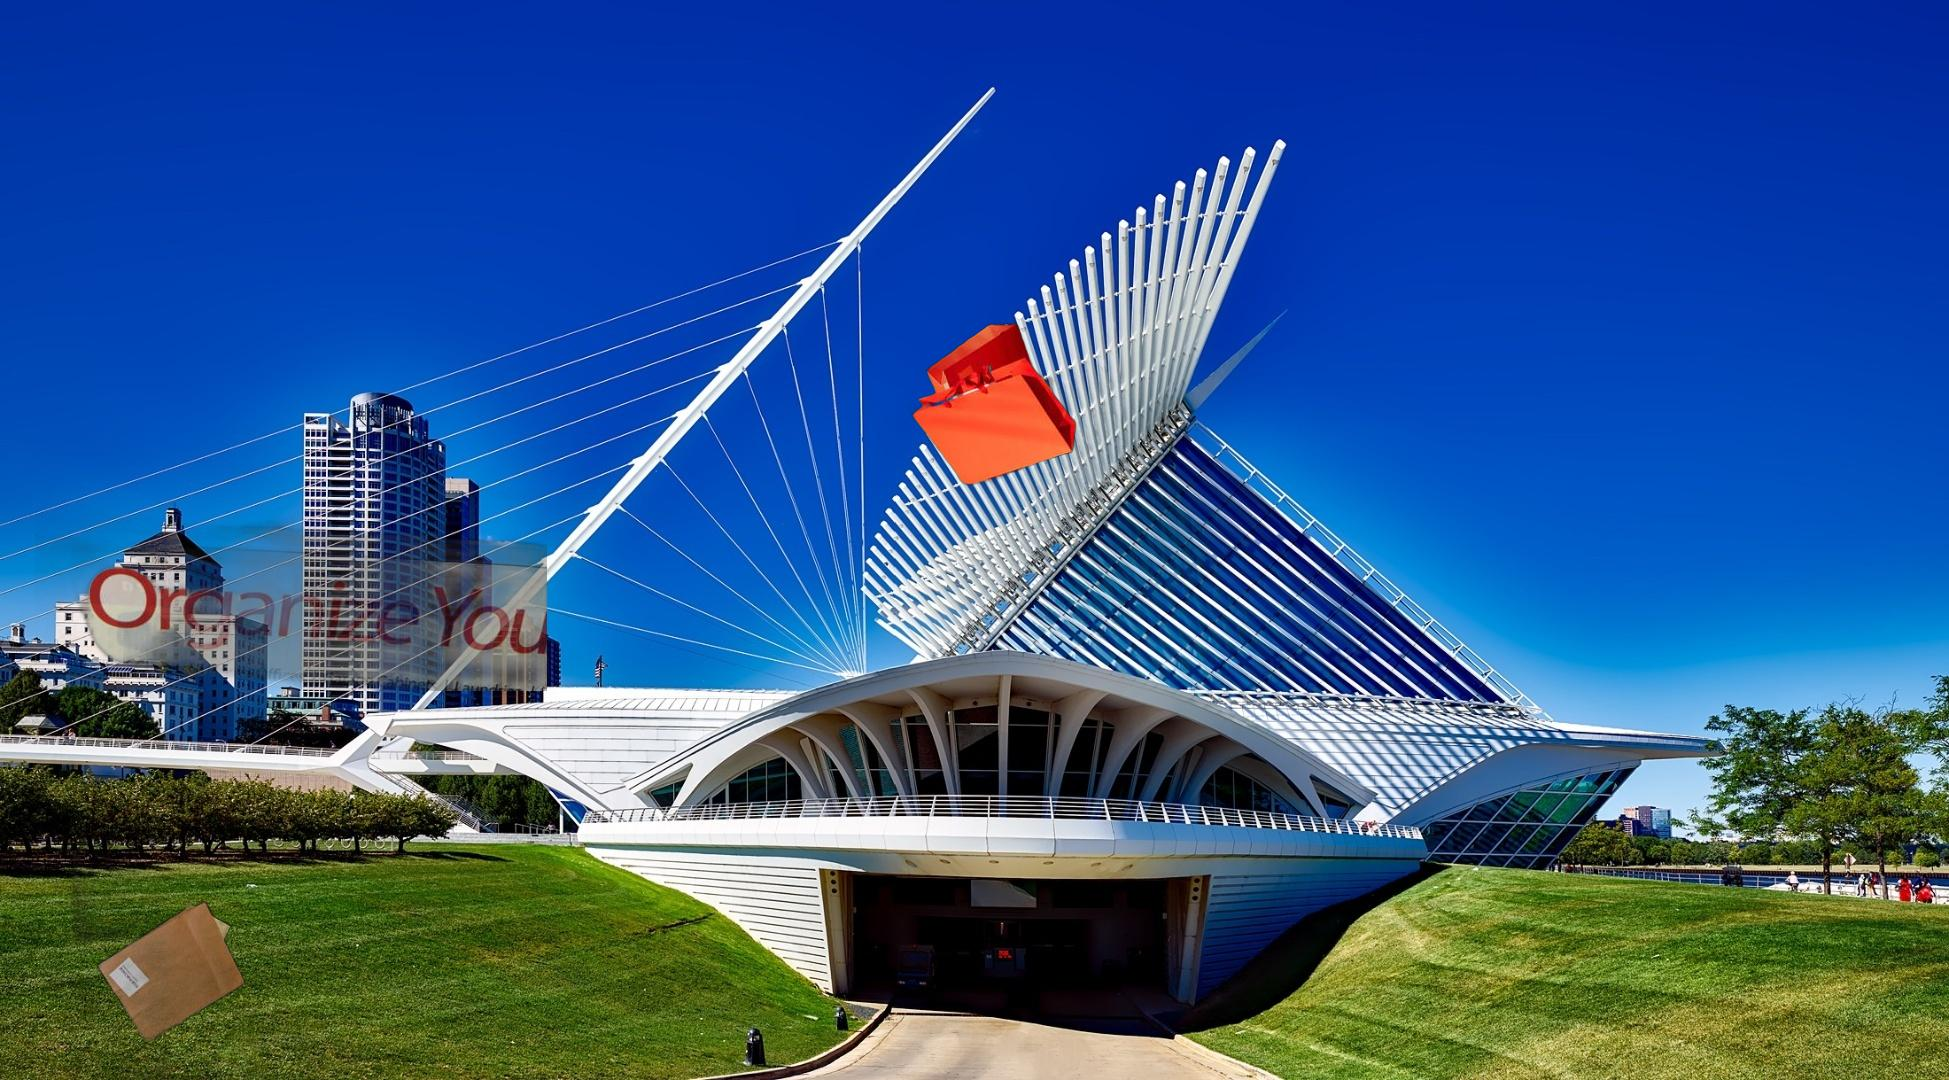paper: (35, 438, 546, 692)
paper-bag: (27, 790, 324, 1080), (904, 321, 1080, 487)
